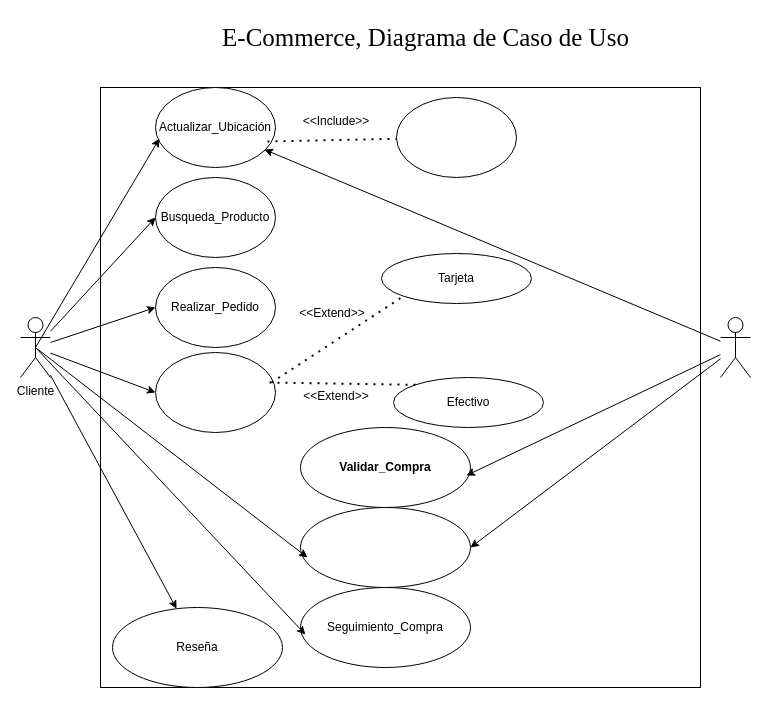
The diagram is 779 pixels wide and 705 high, and some of its shapes have lost their labels. Here are the shapes that lost their labels. From the top down, the centre of each, then its label:
the point at 456,137: Registro
the point at 735,347: SISTEMA
the point at 215,392: Realizar Pago
the point at 385,547: Datos_Compra
